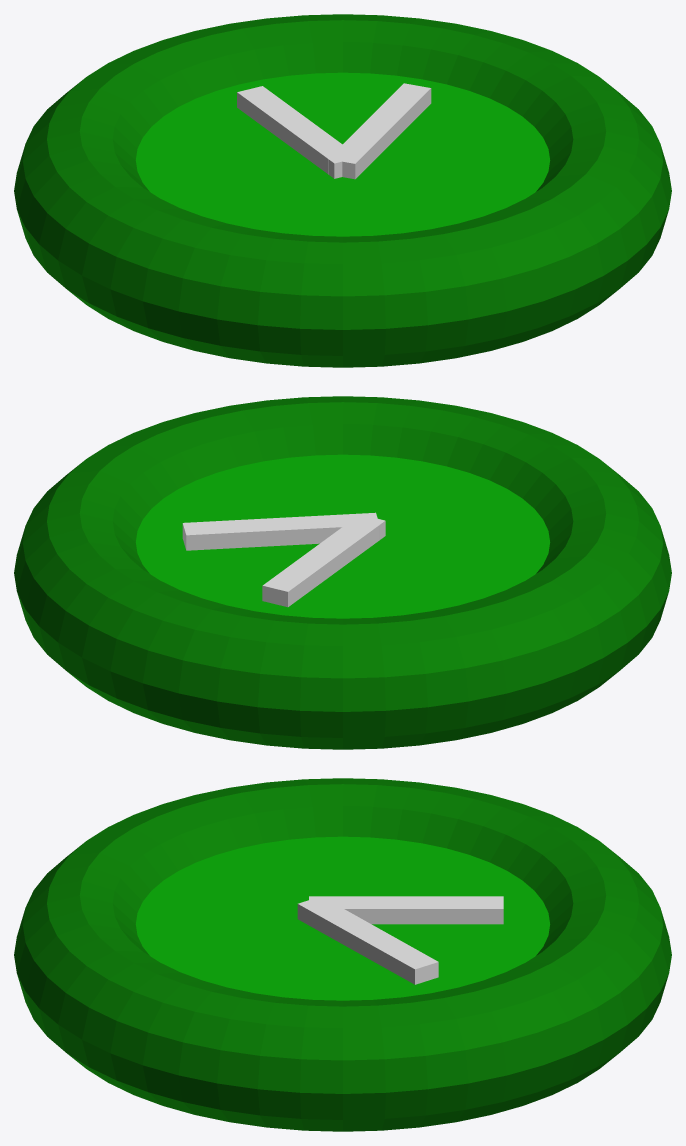
File: Clock_AddTime.fbx
3 renders of one model, top to bottom at view 1: azimuth 30°, elevation 25°; view 2: azimuth 150°, elevation 25°; view 3: azimuth 270°, elevation 25°, orthographic.
Parts seen in each view (by area): view 1: Clock_AddTime; view 2: Clock_AddTime; view 3: Clock_AddTime.
Boxes of the visible parts, box(x1,y1,x2,y2) form: Clock_AddTime: box(14, 14, 671, 367); Clock_AddTime: box(14, 396, 671, 749); Clock_AddTime: box(14, 778, 671, 1131).
Size of the model in its own units: 2.5 by 0.5 by 2.5.
